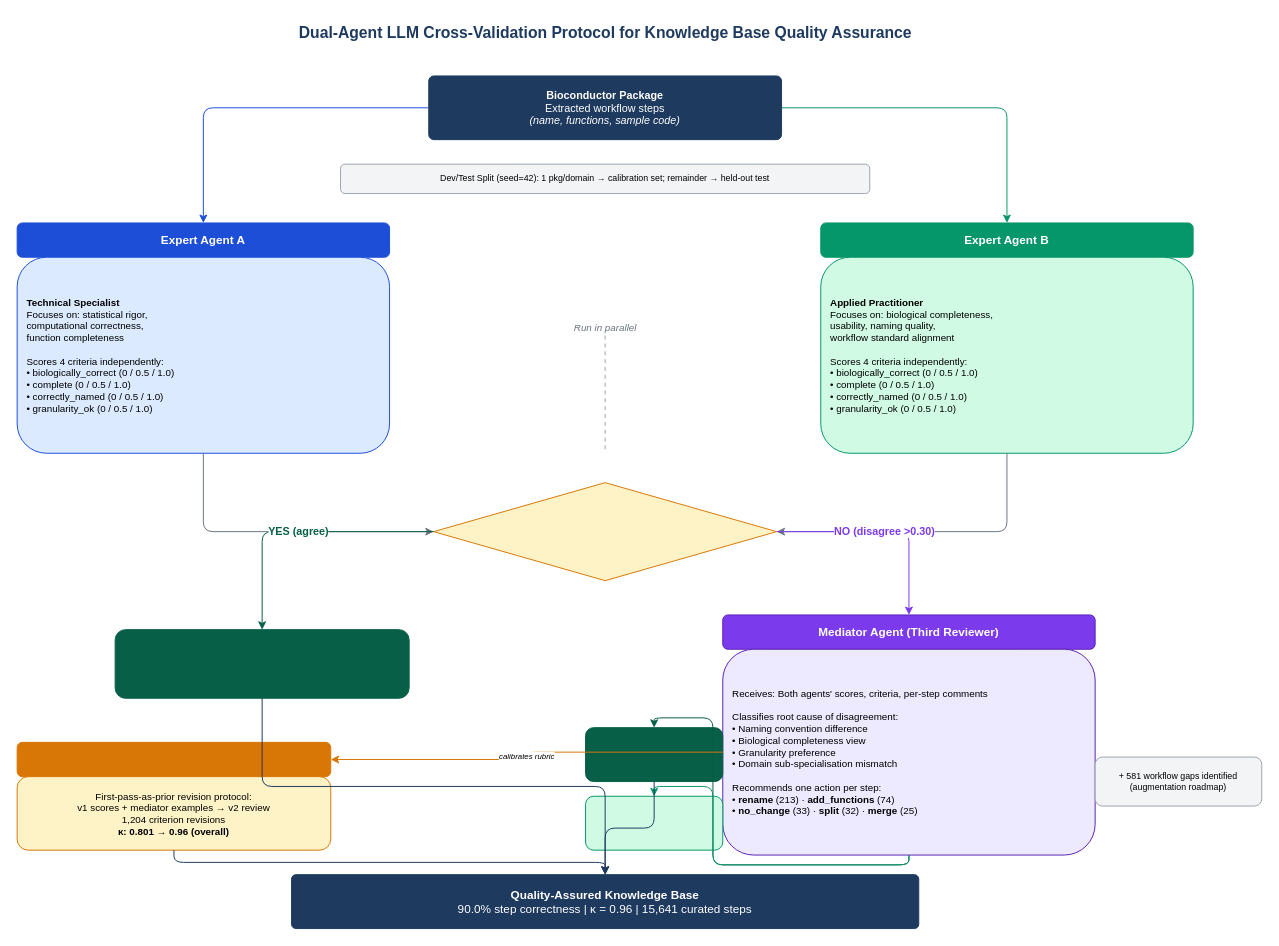
Image size: 1279x946. Some labels were removed from this diagram. The shapes that lost their labels are listed below. From the top down, each one's box as (x1, y1, x2, y2) in pixels, then its label:
(433, 482, 777, 581): Agreement Check |score_A − score_B| ≤ 0.30?
(114, 629, 409, 698): Step Accepted Mean score ≥ 0.75 → Correct Mean score < 0.75 → Needs improvement
(16, 741, 331, 777): Iterative Calibration (v2)
(585, 727, 723, 782): 208 renames applied to KB
(585, 795, 723, 850): 131 items flagged for next cycle
